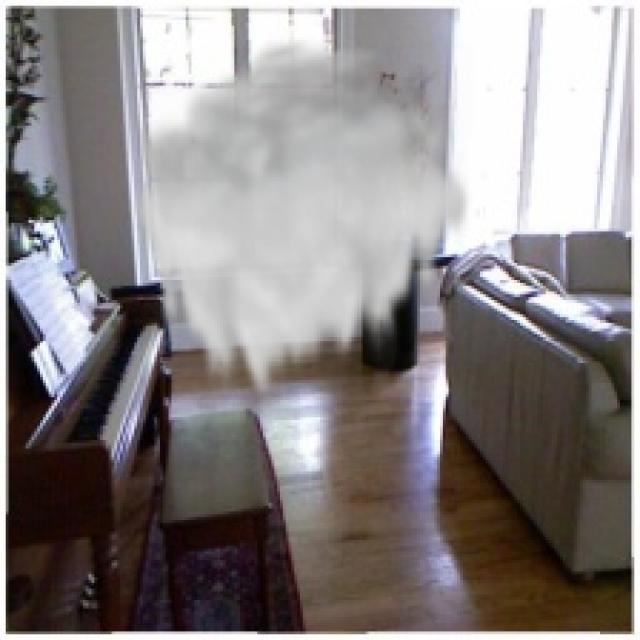smoke: (132, 31, 474, 412)
